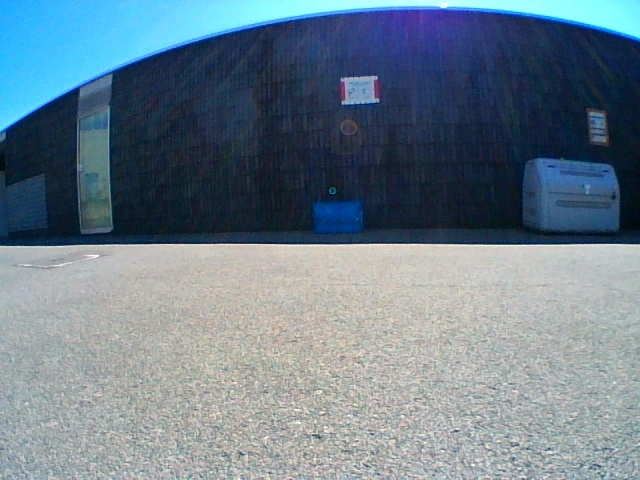blue_box: (312, 200, 362, 234)
